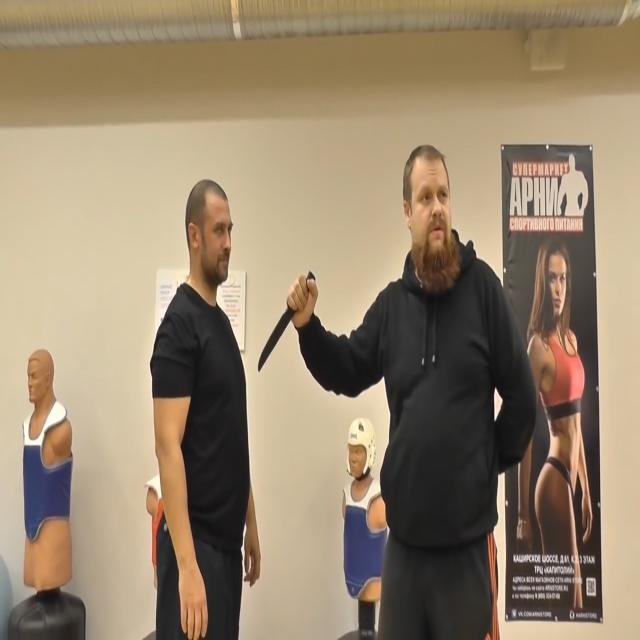knife: (258, 271, 320, 373)
